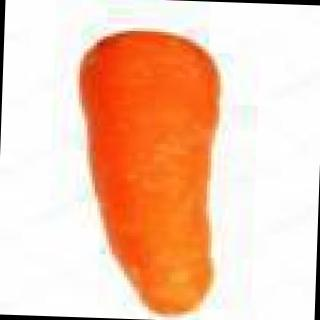Wortel: (28, 26, 281, 313)
